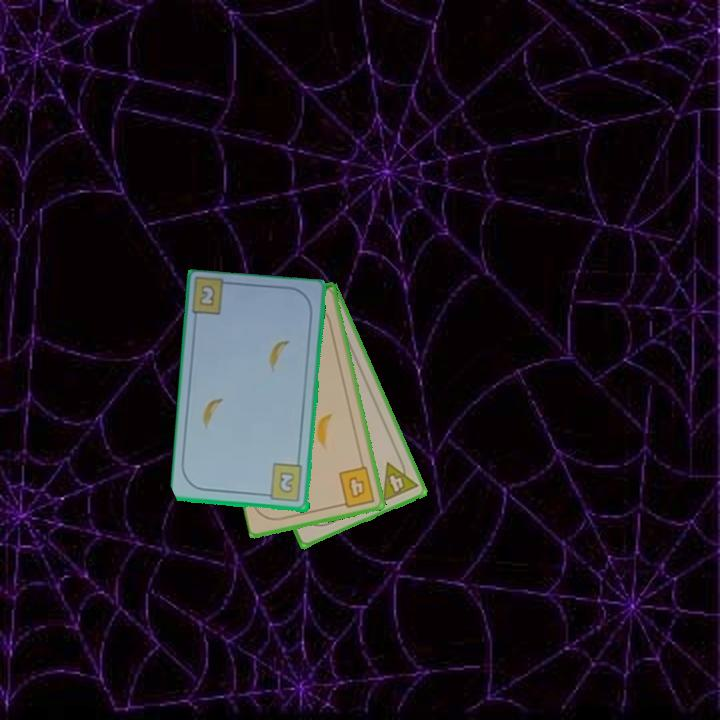2b: (261, 461, 306, 505), (196, 281, 218, 310)
4b: (335, 463, 378, 510)
4p: (378, 454, 421, 505)
